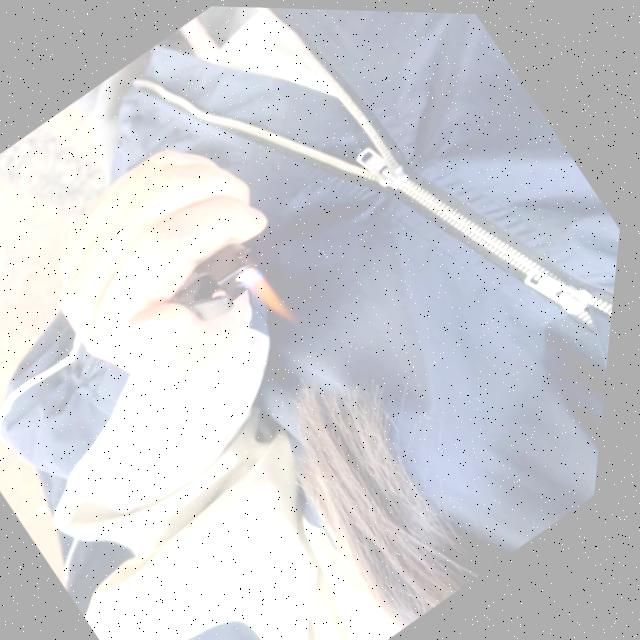Fire: (240, 261, 306, 332)
